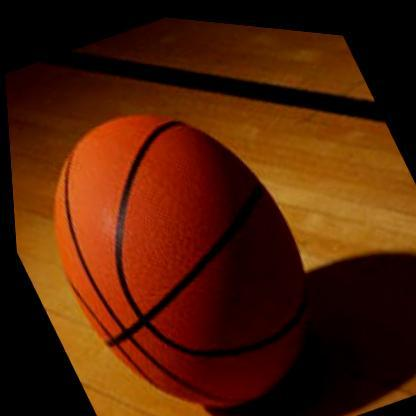basketball: (3, 61, 356, 416)
